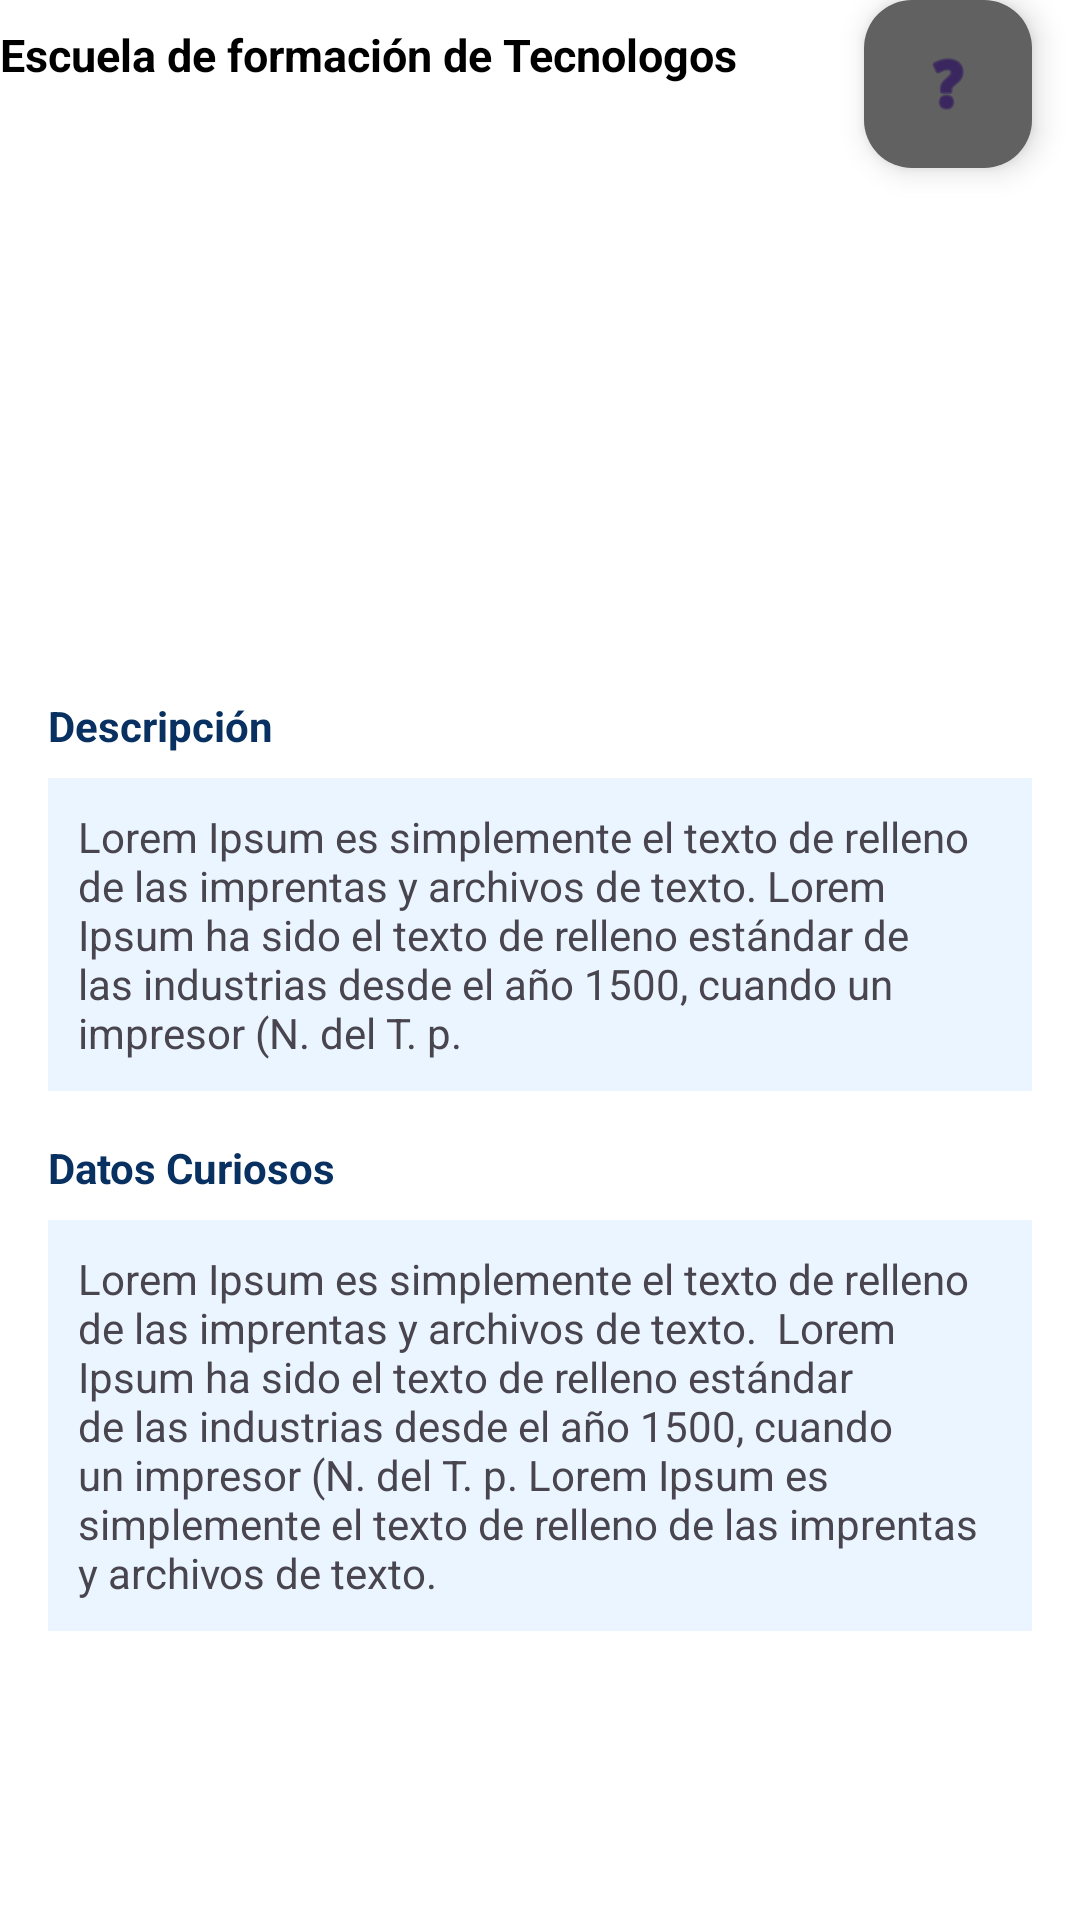

Icon bounding boxes for this 1080w x 1920h phone screenshot, format (x1, y1, x2, y2):
Help Button: (864, 0, 1032, 168)
